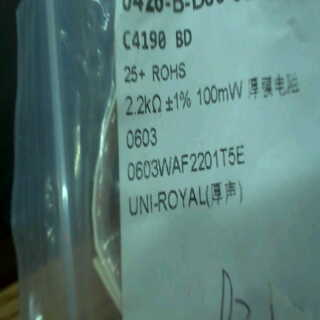2.2kR: (122, 89, 165, 122)
